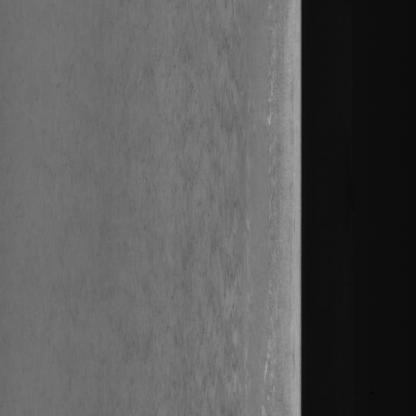silk_spot: (137, 6, 256, 409)
